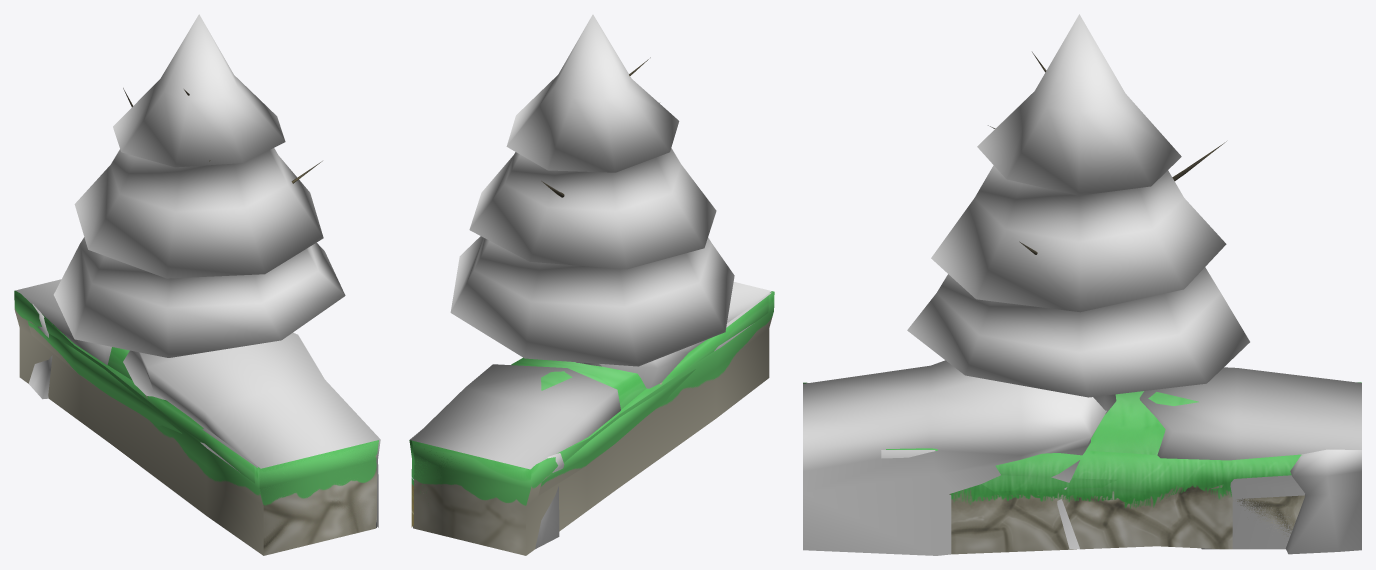
Rendered from Models.fbx.
The picture shows the model from 3 angles, left to right: view 1: azimuth 30°, elevation 25°; view 2: azimuth 150°, elevation 25°; view 3: azimuth 270°, elevation 25°; orthographic projection. The views are drawn at different scales.
Visible parts, largest first — view 1: Tree, Platform_003, Platform_002, Platform_001, Platform; view 2: Tree, Platform_002, Platform, Platform_001, Platform_003; view 3: Tree, Platform_003, Platform_001, Platform, Platform_002.
Part boxes in pixels (box(x1,y1,x2,y2)): Tree: box(53, 14, 345, 357); Platform_003: box(28, 304, 380, 527); Platform_002: box(14, 290, 377, 555); Platform_001: box(27, 321, 378, 555); Platform: box(15, 279, 376, 527); Tree: box(450, 14, 734, 366); Platform_002: box(412, 291, 774, 555); Platform: box(411, 292, 771, 469); Platform_001: box(413, 291, 773, 528); Platform_003: box(409, 282, 771, 549); Tree: box(907, 14, 1249, 414); Platform_003: box(803, 360, 1361, 555); Platform_001: box(803, 383, 1304, 554); Platform: box(803, 367, 1361, 549); Platform_002: box(803, 382, 1361, 491).
Bounding box in the file's own units: 4.43 × 7.35 × 7.25.
